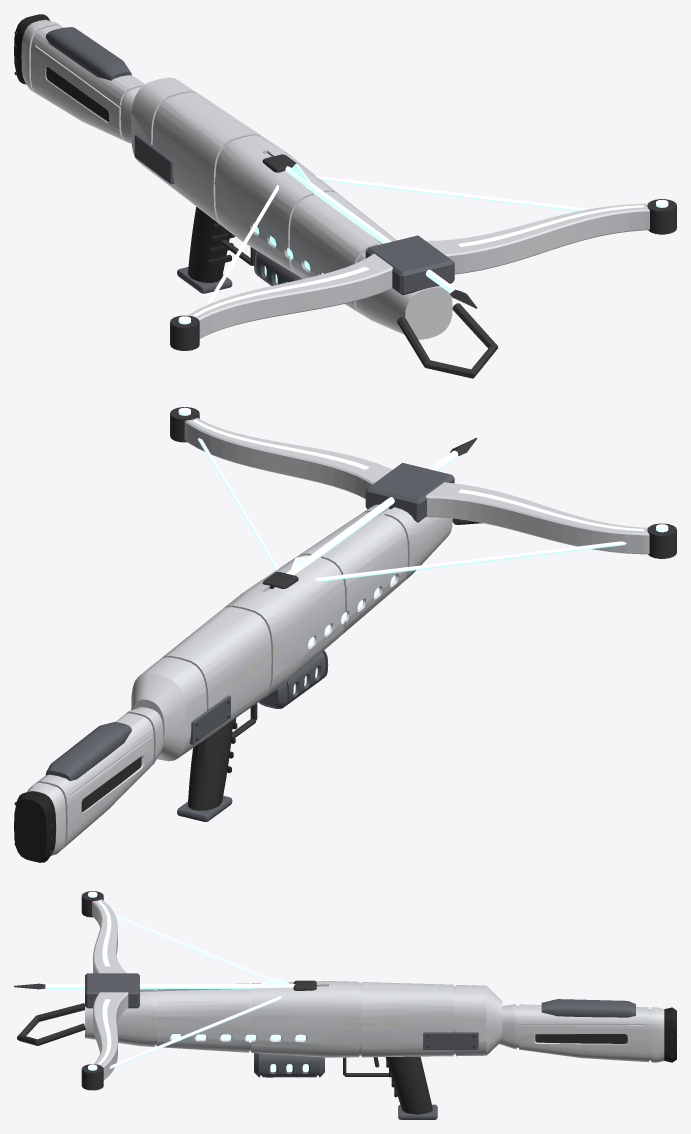
File: crossbow.glb
3 renders of one model, top to bottom at view 1: azimuth 30°, elevation 25°; view 2: azimuth 150°, elevation 25°; view 3: azimuth 270°, elevation 25°, orthographic. The views are drawn at different scales.
Parts seen in each view (by area): view 1: Body; view 2: Body; view 3: Body.
Boxes of the visible parts, bbox=[...] form: Body: bbox=[14, 14, 676, 378]; Body: bbox=[14, 407, 676, 862]; Body: bbox=[14, 891, 676, 1119].
Bounding box in the file's own units: 0.5476 × 0.1932 × 0.842.
